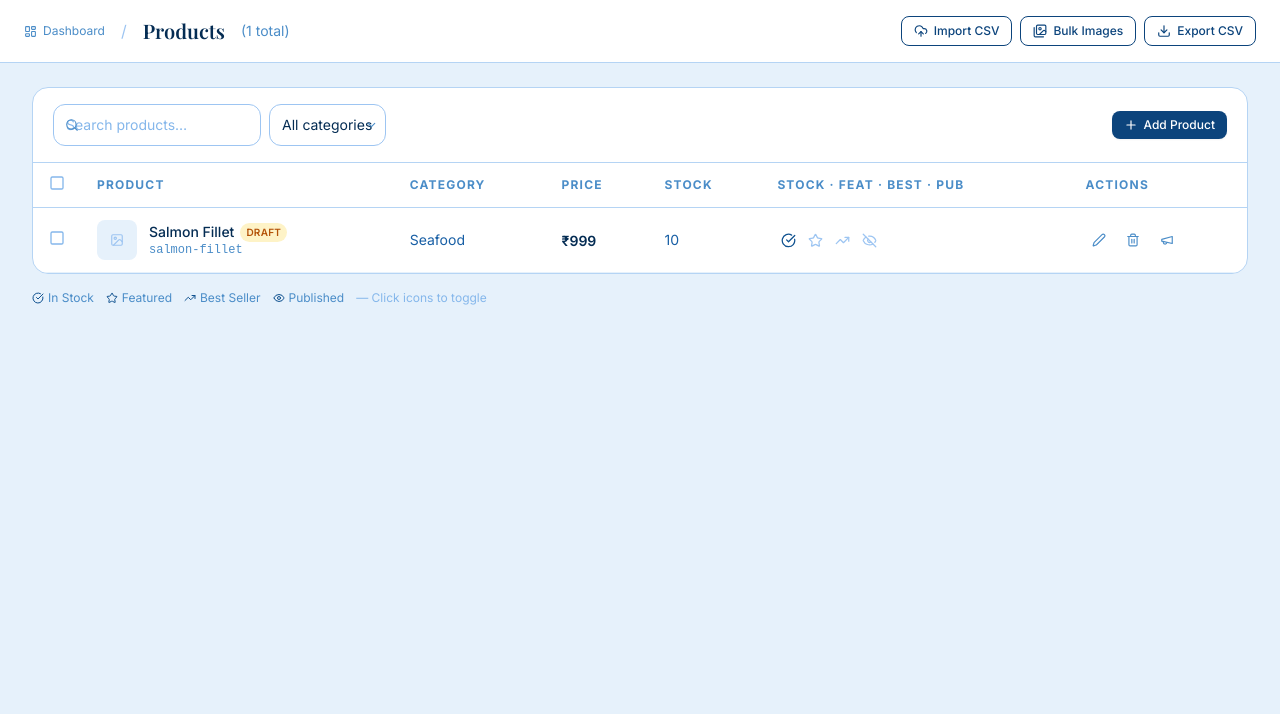
Test: AdminProductsPage › opens the edit drawer pre-filled with product data
The image size is (1280, 714).
Expected: the text "Salmon Fillet" is shown, [149, 222, 234, 242]
Click the button titled "Edit" at (1099, 240), box [1086, 227, 1112, 253]
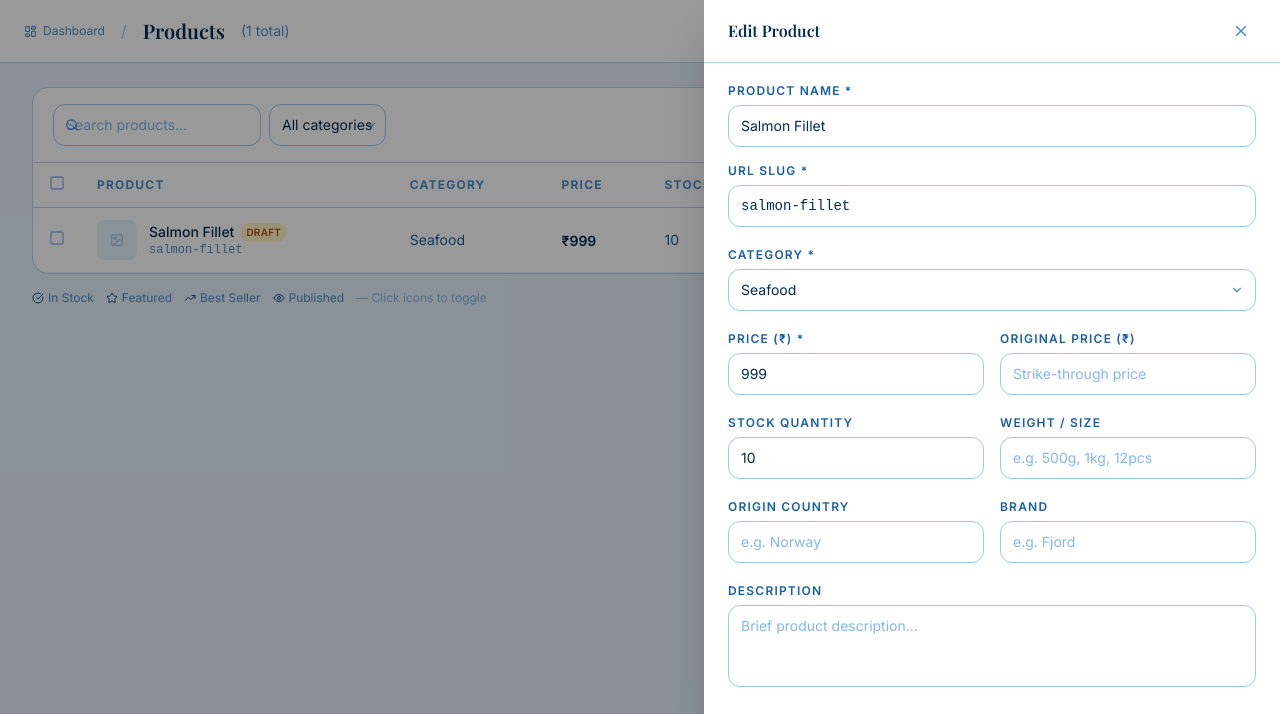
Expected: the heading "Edit Product" is shown, [728, 19, 820, 43]
Expected: the field with placeholder "e.g. Salmon Fillet 500g" below "Product Name *" holds "Salmon Fillet", [728, 105, 1256, 147]
